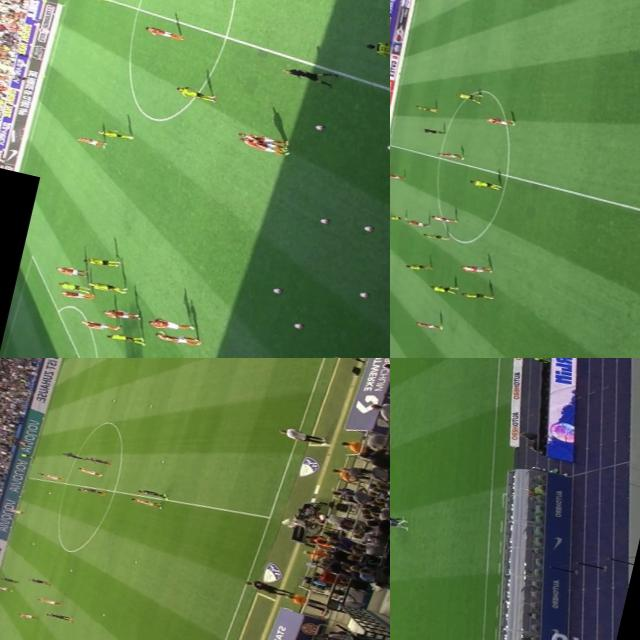ball: (290, 320, 306, 330), (320, 217, 333, 226), (312, 122, 324, 131), (362, 223, 372, 233), (358, 290, 368, 298), (272, 286, 282, 294), (332, 354, 345, 358), (385, 142, 390, 150), (109, 398, 115, 402), (68, 568, 74, 572), (160, 460, 166, 463), (30, 541, 36, 544), (47, 490, 53, 493), (102, 612, 105, 616), (148, 404, 153, 406), (134, 560, 138, 562)
player: (237, 138, 291, 158), (147, 315, 196, 334), (240, 130, 287, 148), (362, 34, 390, 64), (102, 326, 143, 346), (143, 22, 184, 41), (175, 85, 216, 103), (83, 252, 122, 270), (54, 285, 91, 303), (84, 278, 124, 294), (80, 318, 120, 334), (156, 331, 198, 346), (483, 110, 516, 128), (466, 174, 503, 190), (402, 258, 437, 274), (98, 126, 132, 142), (457, 259, 492, 274), (459, 287, 494, 302), (428, 280, 460, 296), (106, 307, 140, 321), (74, 134, 106, 148), (412, 317, 444, 331), (130, 495, 163, 508), (433, 147, 465, 160), (138, 487, 168, 500), (60, 280, 87, 294), (410, 101, 440, 113), (402, 216, 432, 228), (454, 91, 483, 103), (429, 212, 458, 224), (78, 484, 107, 496), (422, 230, 449, 242), (76, 466, 103, 478), (86, 454, 113, 466), (57, 264, 81, 276), (44, 611, 70, 622), (38, 595, 62, 606), (28, 576, 50, 586), (62, 451, 85, 460), (390, 513, 405, 526), (390, 170, 405, 180), (18, 611, 36, 619), (0, 576, 18, 584), (6, 506, 22, 514), (390, 212, 404, 221), (45, 473, 62, 480), (390, 511, 399, 522), (0, 583, 12, 591), (37, 471, 53, 476), (82, 0, 107, 3)
